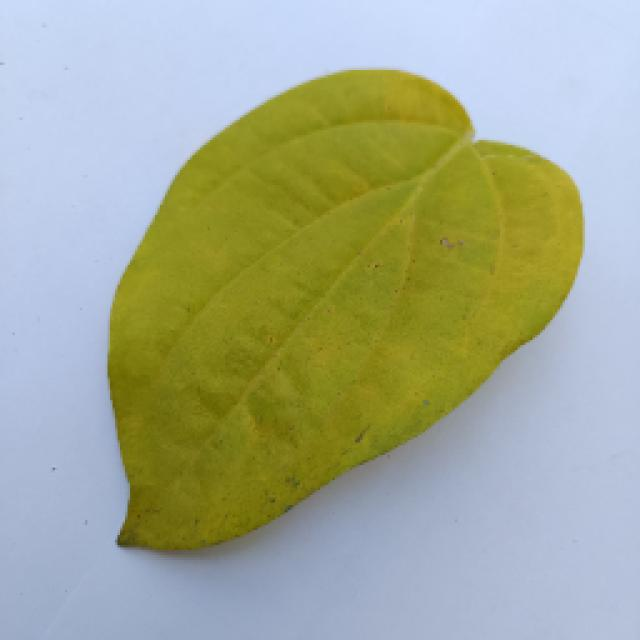slow-decline: (52, 75, 602, 560)
